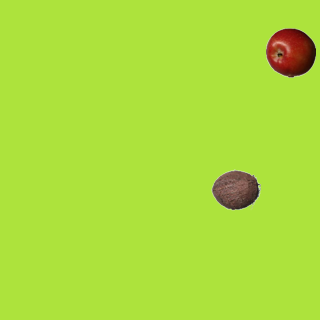Apple Braeburn: (265, 27, 315, 77)
Cocos: (210, 164, 260, 214)
